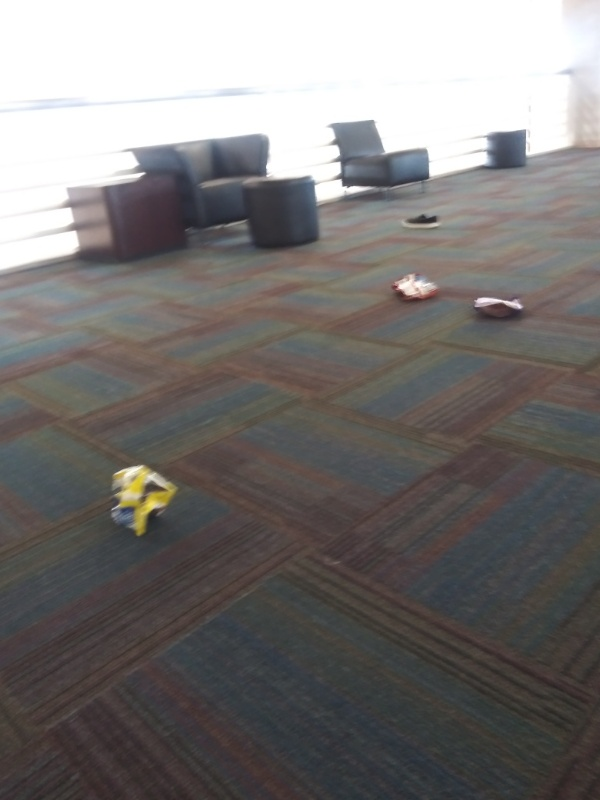bag: (105, 461, 181, 540), (386, 268, 452, 302), (464, 288, 529, 320)
